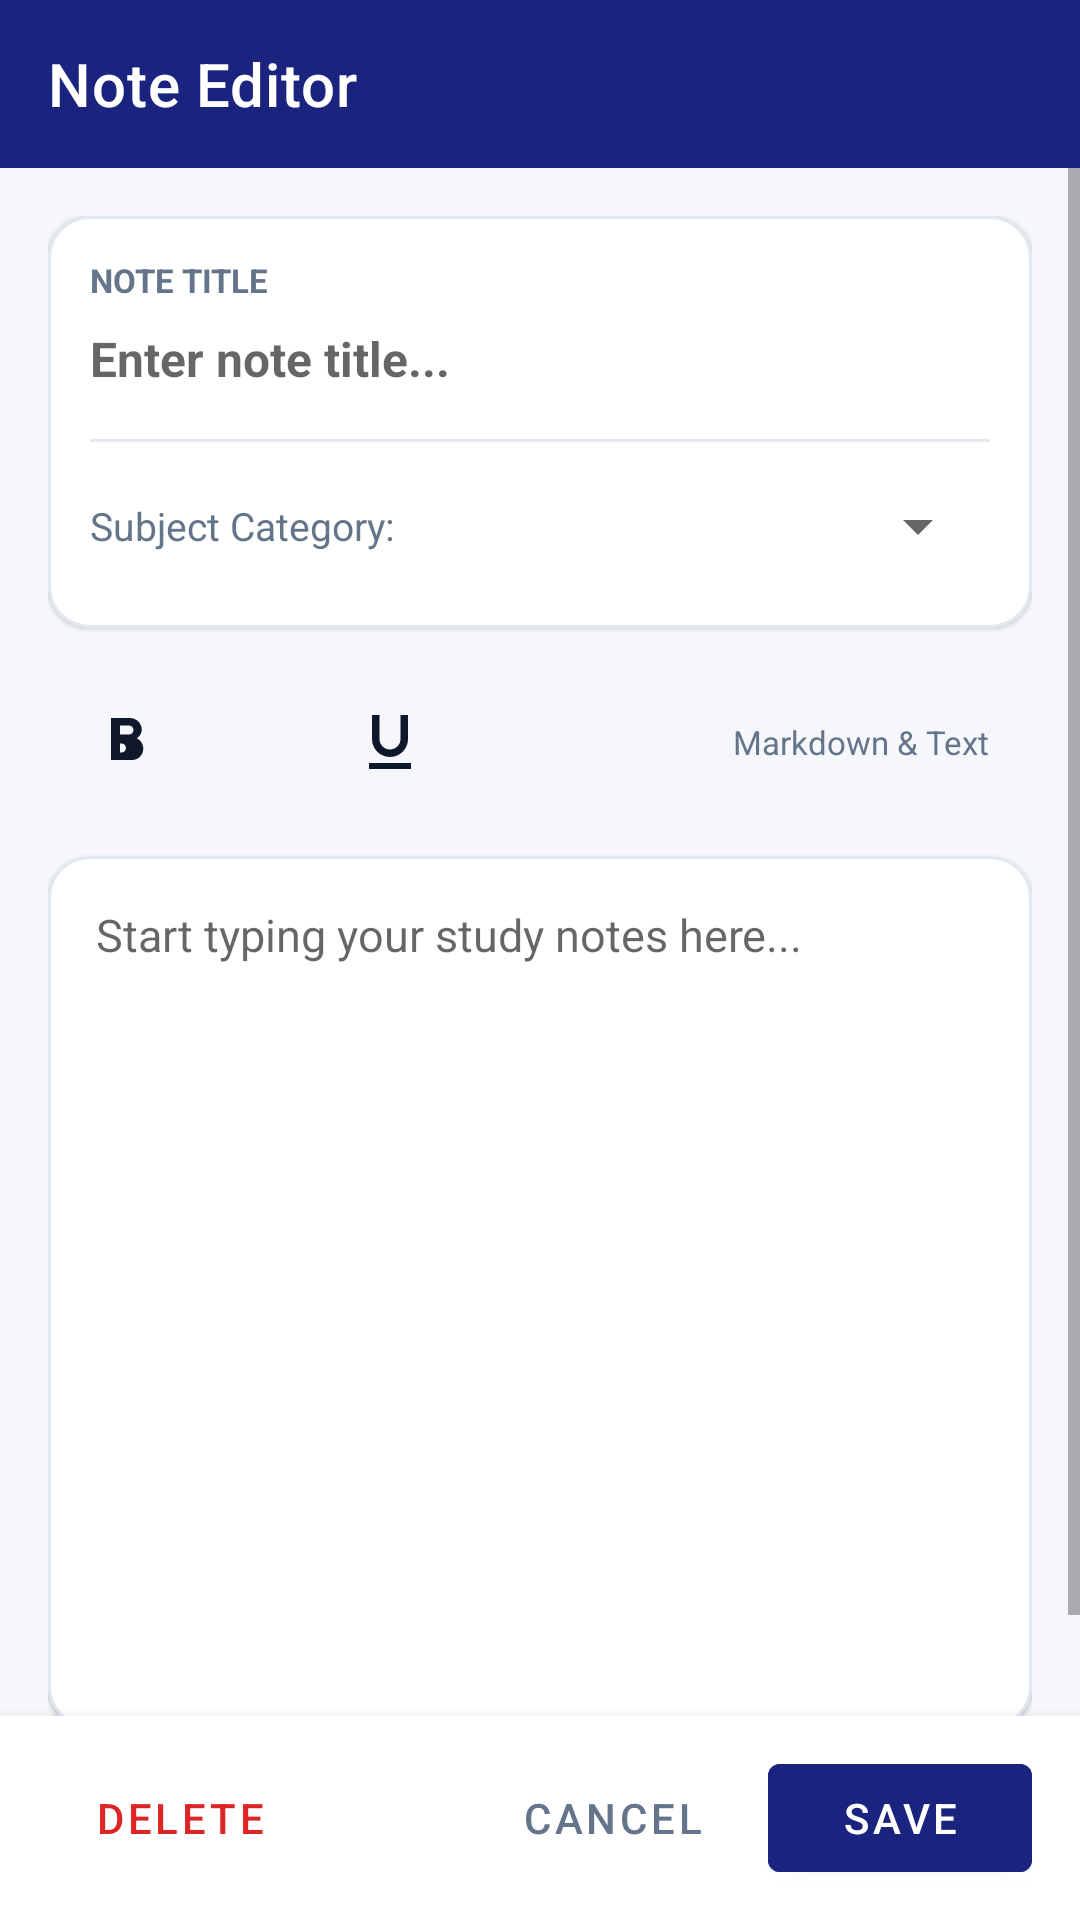

Icon click points for this 1080 x 1920 phone screenshot, format (x,y):
Bold: (127,739)
Underline: (390,742)
